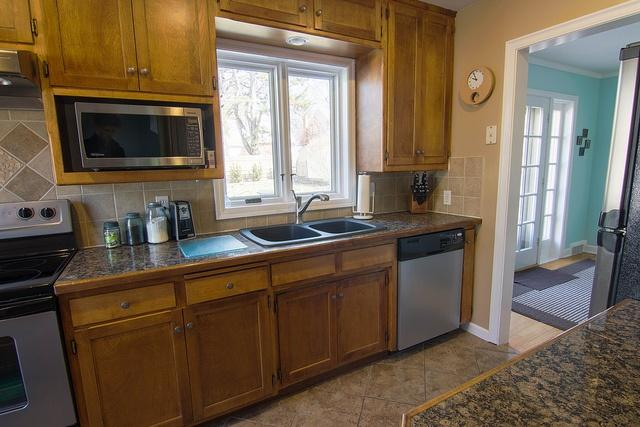Lemari: (34, 0, 218, 97), (380, 0, 456, 173)
